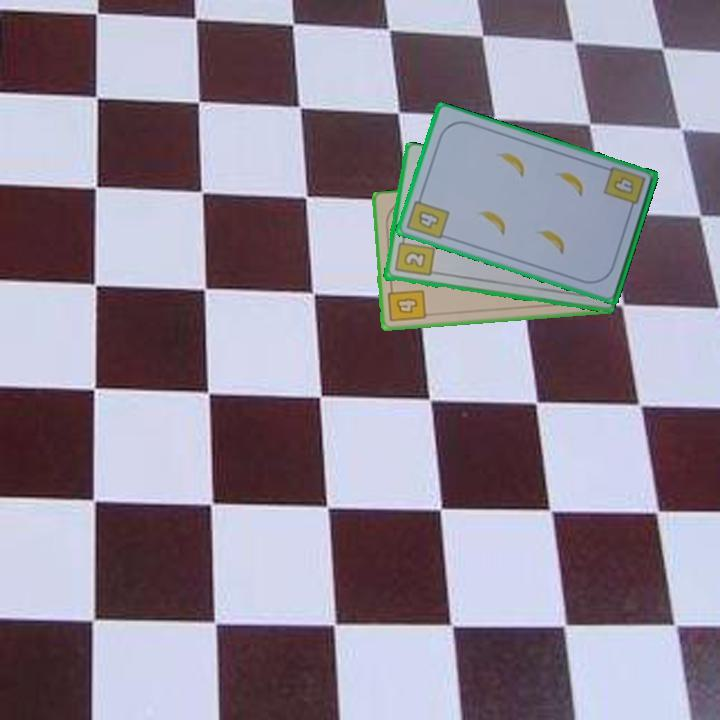2b: (391, 233, 437, 279)
4b: (403, 191, 452, 242), (600, 163, 648, 215), (385, 281, 429, 325)
